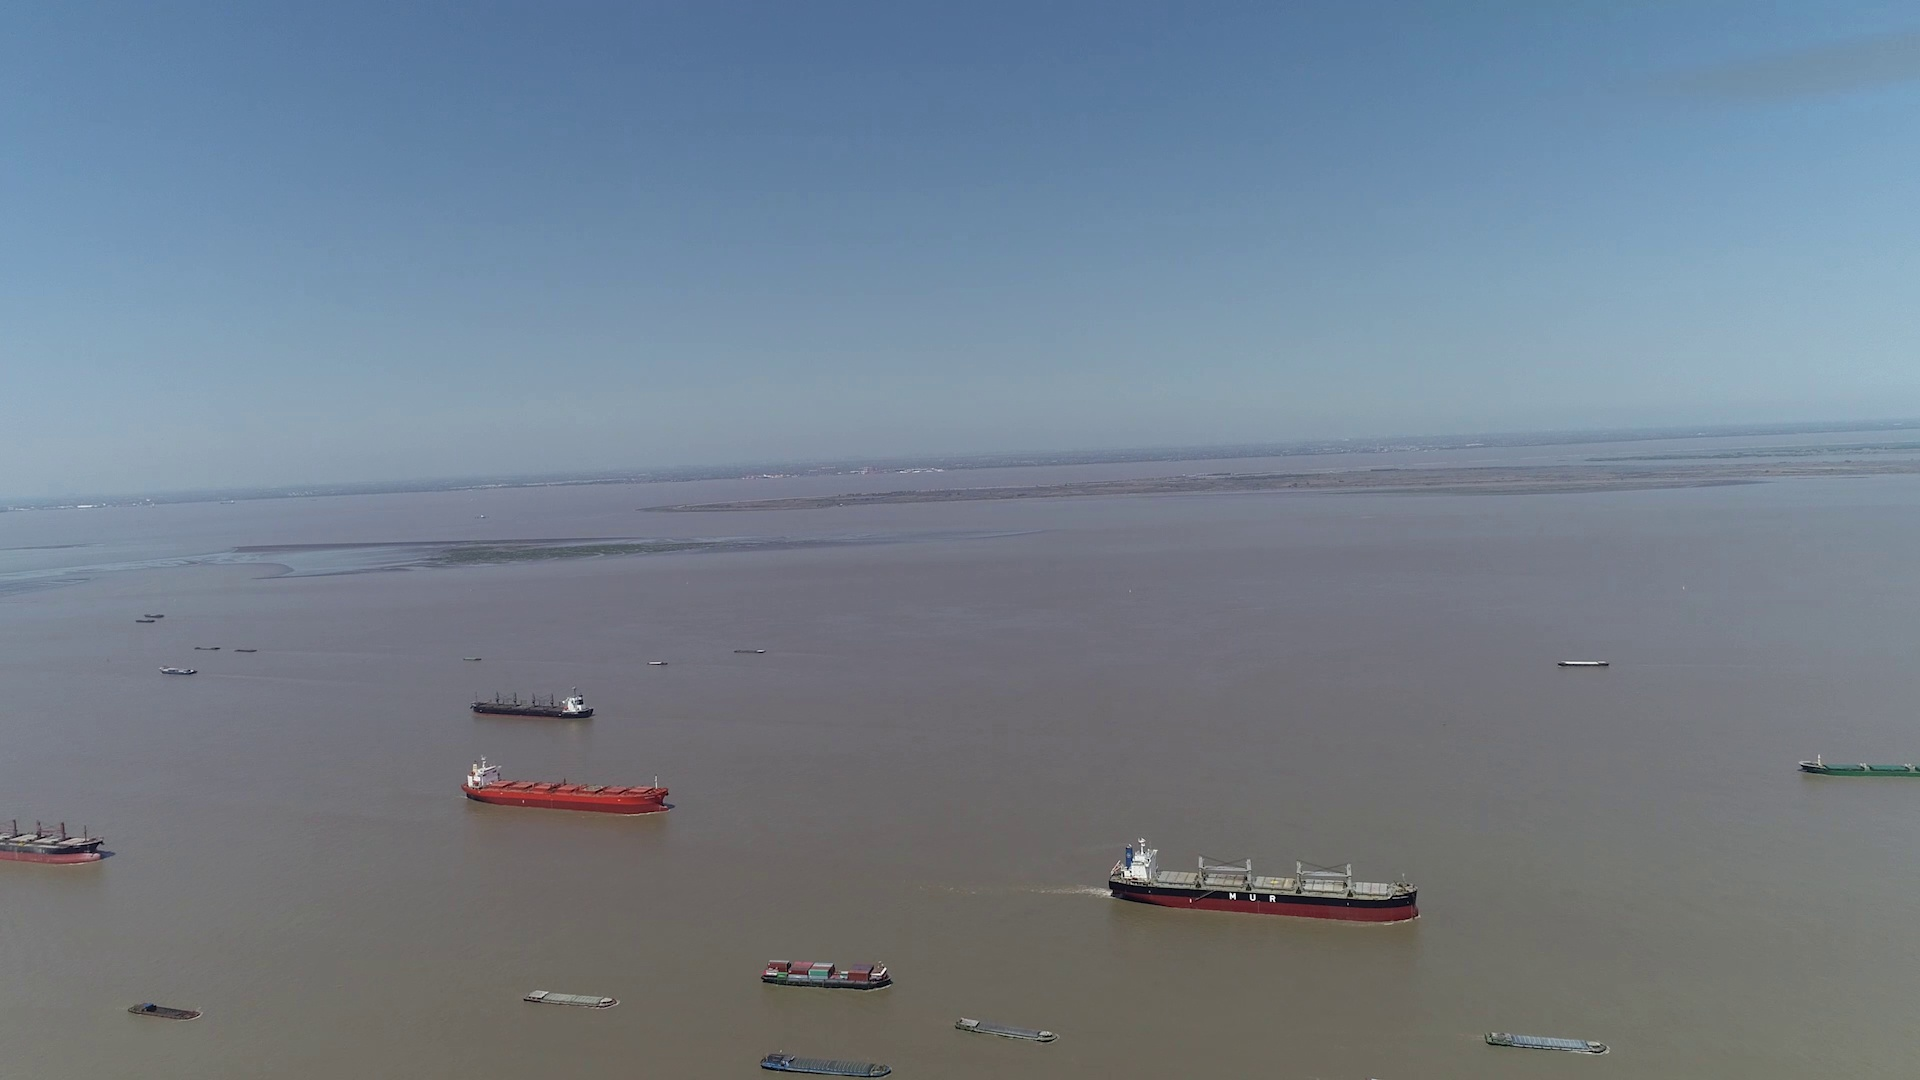ship: (1109, 837, 1422, 924), (464, 754, 670, 814), (3, 803, 109, 864), (761, 957, 894, 992), (472, 688, 595, 720), (762, 1051, 895, 1077), (1484, 1030, 1606, 1055), (1797, 753, 1920, 777), (955, 1017, 1058, 1044), (521, 989, 615, 1007), (128, 1001, 202, 1021), (1555, 659, 1609, 669), (160, 665, 195, 674)
